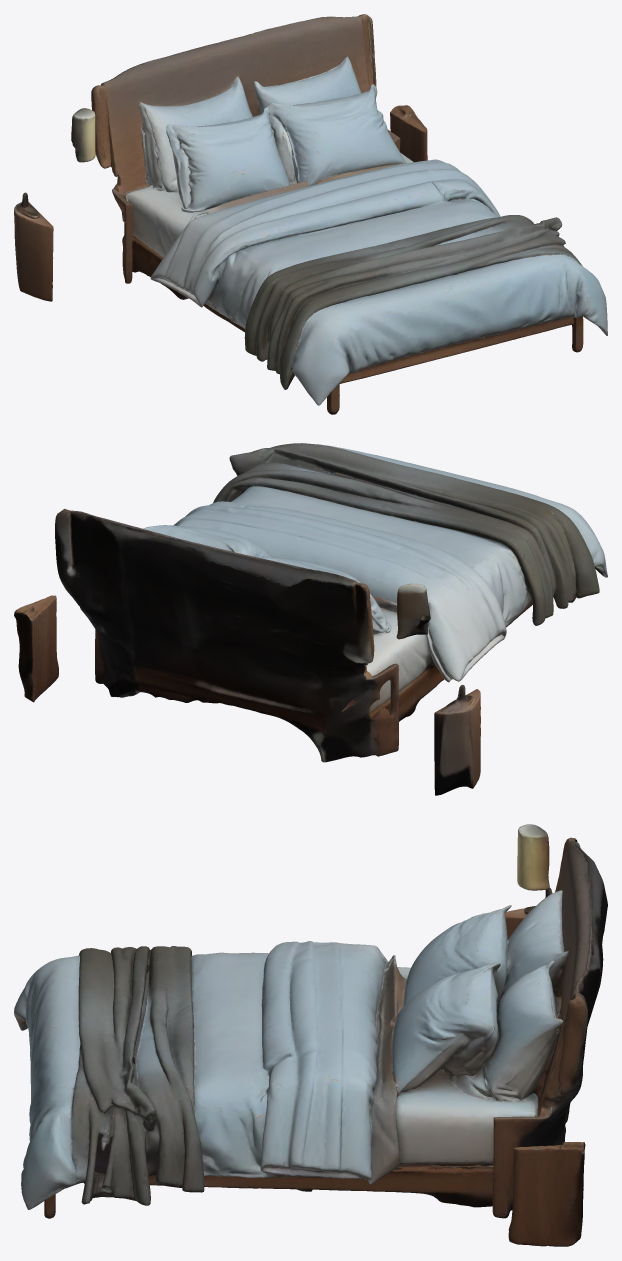
The model's file is bed.glb.
3 views of the same model, one above another, from view 1: azimuth 30°, elevation 25°; view 2: azimuth 150°, elevation 25°; view 3: azimuth 270°, elevation 25° (orthographic). The views are drawn at different scales.
Visible parts, largest first — view 1: world; view 2: world; view 3: world.
Part boxes in pixels (x1=…): world: x1=14, y1=14, x2=607, y2=414; world: x1=14, y1=443, x2=607, y2=795; world: x1=14, y1=824, x2=607, y2=1246.
Size of the model in its own units: 0.9741 by 0.4307 by 0.999.
1 material, 1 textured.
